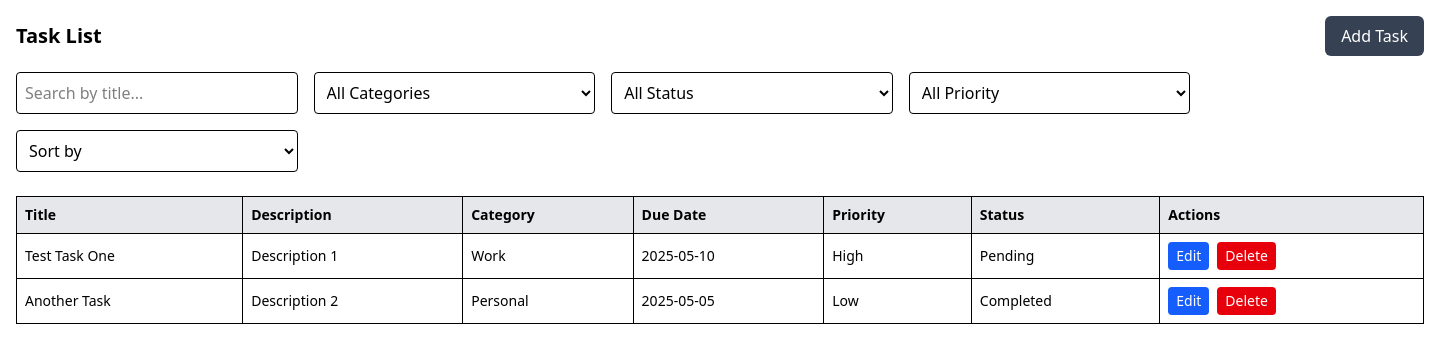
TaskListView.vue › filters tasks by category
The image size is (1440, 341).
Select "Personal" in the dropdown with test id "filter-category" at (454, 93), box x1=314 y1=72 x2=595 y2=114
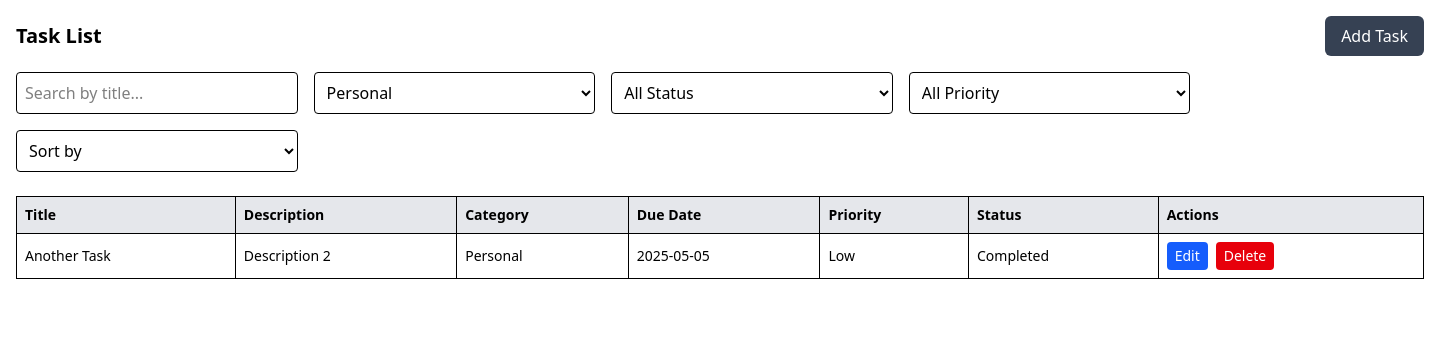
Check: the text "Another Task" is shown, box x1=16 y1=234 x2=235 y2=278
Check: the text "Test Task One" is gone
